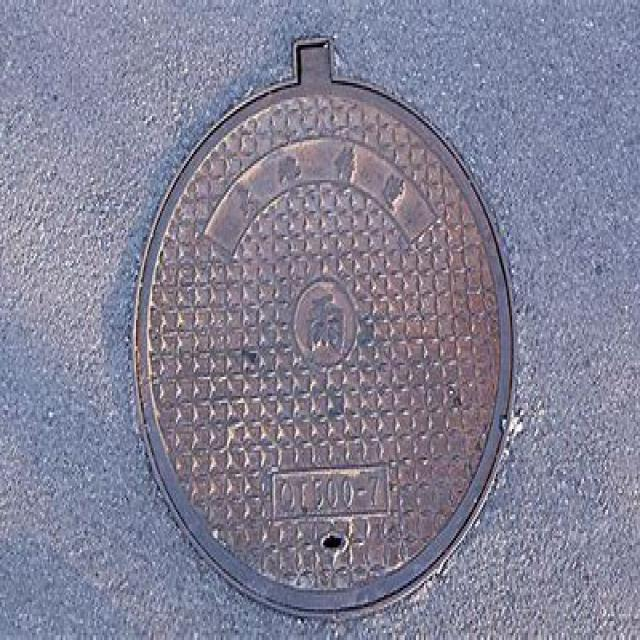manhole: (135, 39, 512, 614)
